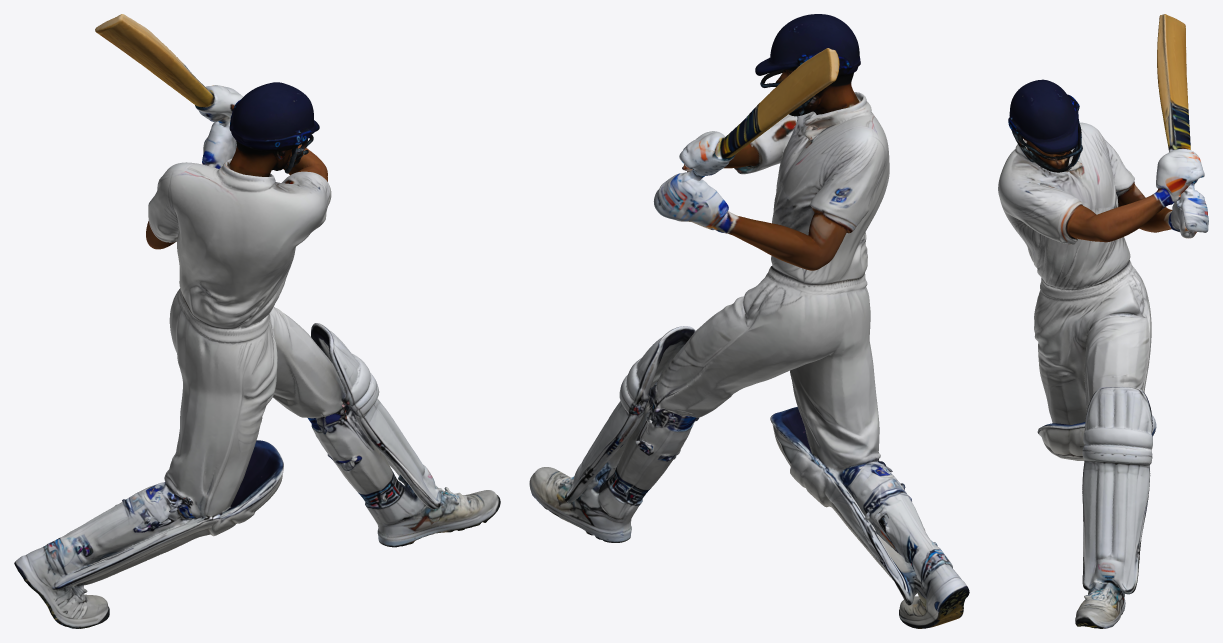
The model's file is second-batsman.glb.
The picture shows the model from 3 angles, left to right: view 1: azimuth 30°, elevation 25°; view 2: azimuth 150°, elevation 25°; view 3: azimuth 270°, elevation 25°; orthographic projection. The views are drawn at different scales.
Parts seen in each view (by area): view 1: tripo_node_546e571d-f8db-4d38-9896-ea02f47fc50b; view 2: tripo_node_546e571d-f8db-4d38-9896-ea02f47fc50b; view 3: tripo_node_546e571d-f8db-4d38-9896-ea02f47fc50b.
Part boxes in pixels (x1,y1,x2,y2): tripo_node_546e571d-f8db-4d38-9896-ea02f47fc50b: (14, 14, 500, 628); tripo_node_546e571d-f8db-4d38-9896-ea02f47fc50b: (529, 14, 969, 628); tripo_node_546e571d-f8db-4d38-9896-ea02f47fc50b: (998, 14, 1208, 628).
Bounding box in the file's own units: 0.8343 × 1 × 0.3844.
Materials: 1 (1 with a texture image).
